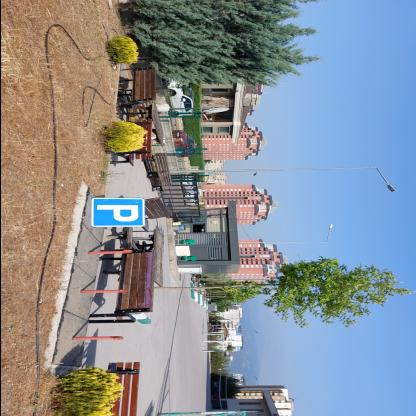Parking-Sign: (91, 198, 146, 228)
